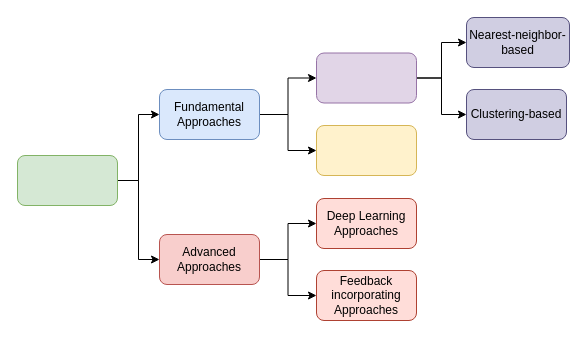
Some shapes in this 587 by 338 pixel diagram are drawn without their labels. The shapes that lost their labels are listed below. From the top down, each one's box as (x1, y1, x2, y2) in pixels, then its label:
(316, 52, 416, 103): Proximity-based Approaches
(316, 124, 416, 176): Projection-based Approaches
(16, 154, 118, 206): Outlier Detection Approaches
